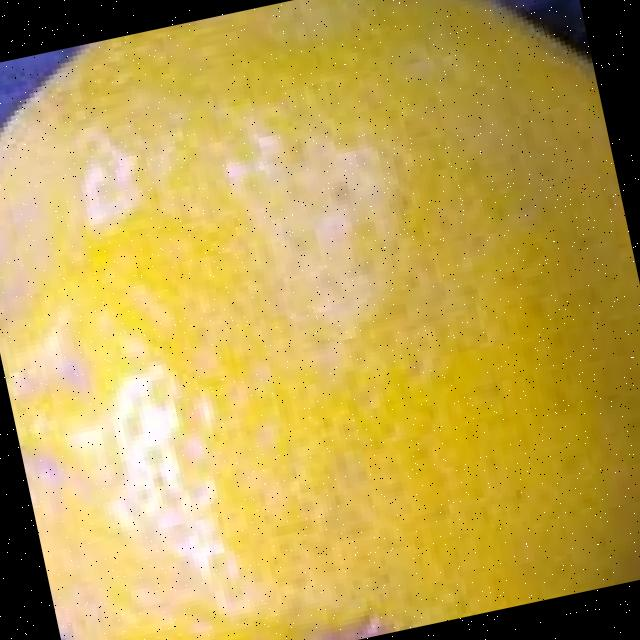Bad_Orange-0-1 day: (0, 0, 640, 640)
